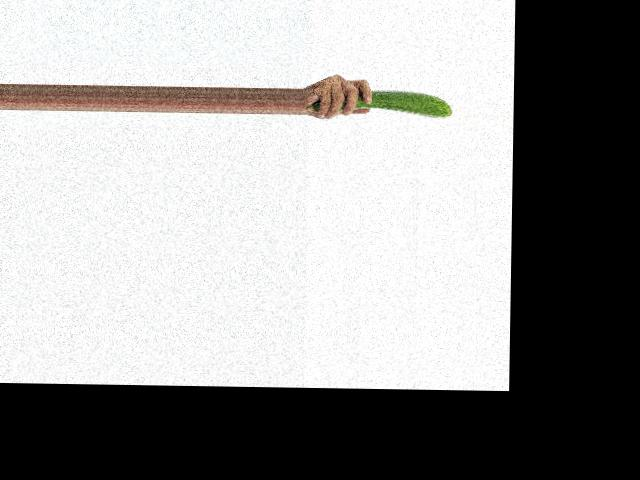cucumber: (307, 89, 453, 118)
